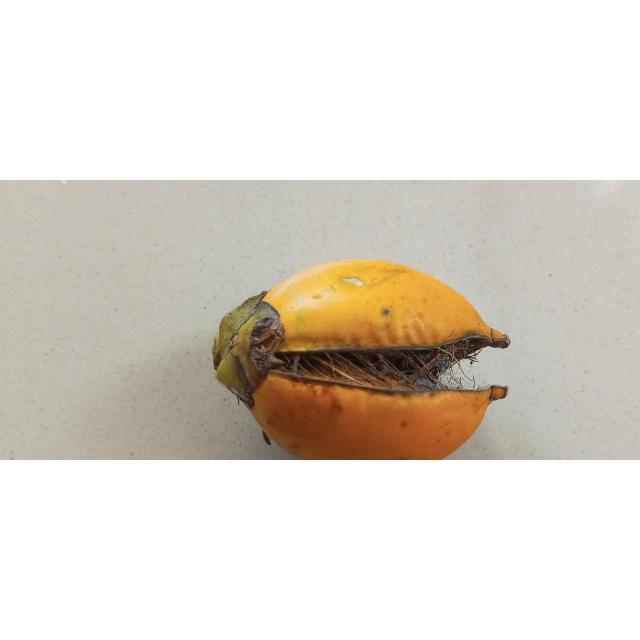damaged: (212, 260, 511, 461)
